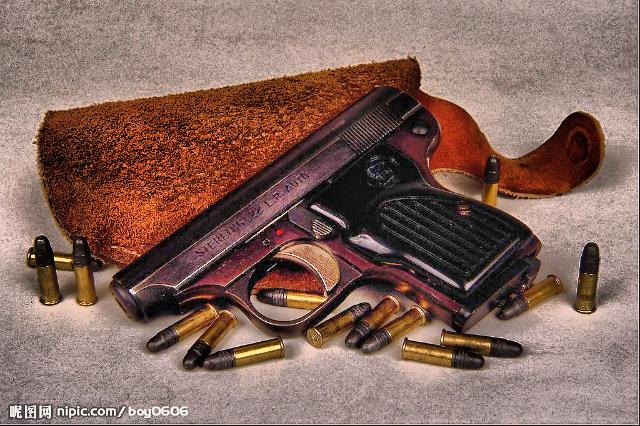pistol: (111, 84, 541, 338)
